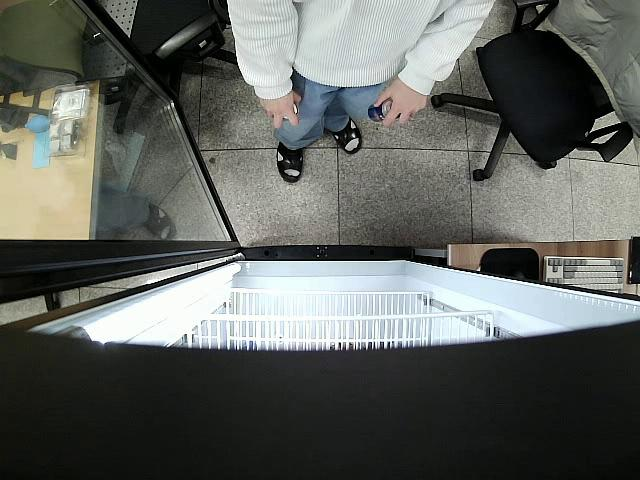00_hand: (371, 79, 429, 129), (259, 93, 303, 127)
16_hot6: (366, 99, 404, 124)
